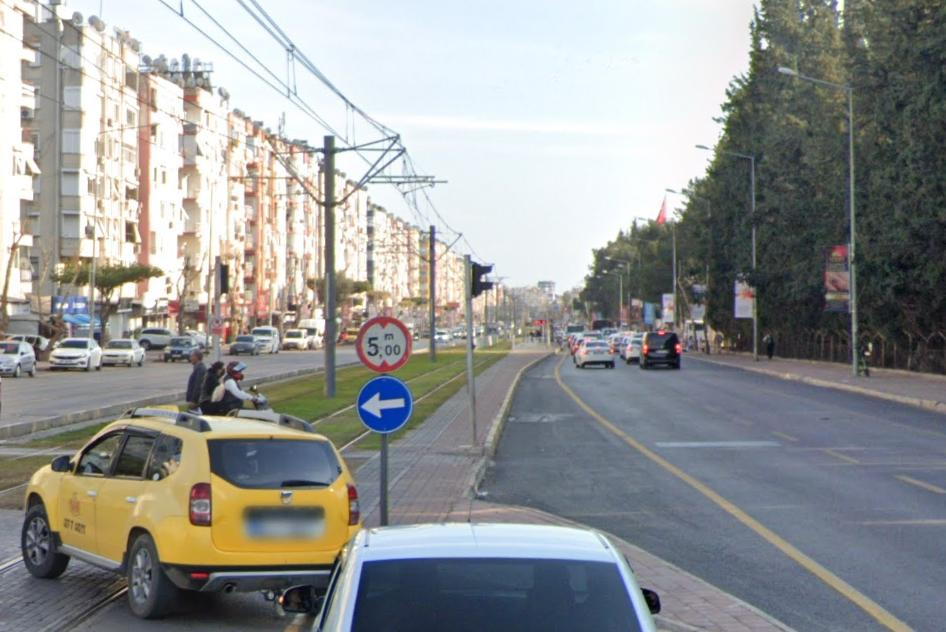turnleft: (357, 378, 412, 435)
